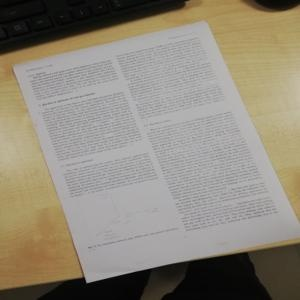text: (147, 108, 277, 233), (117, 28, 227, 119), (45, 90, 141, 162), (63, 153, 157, 196), (32, 58, 119, 103)
